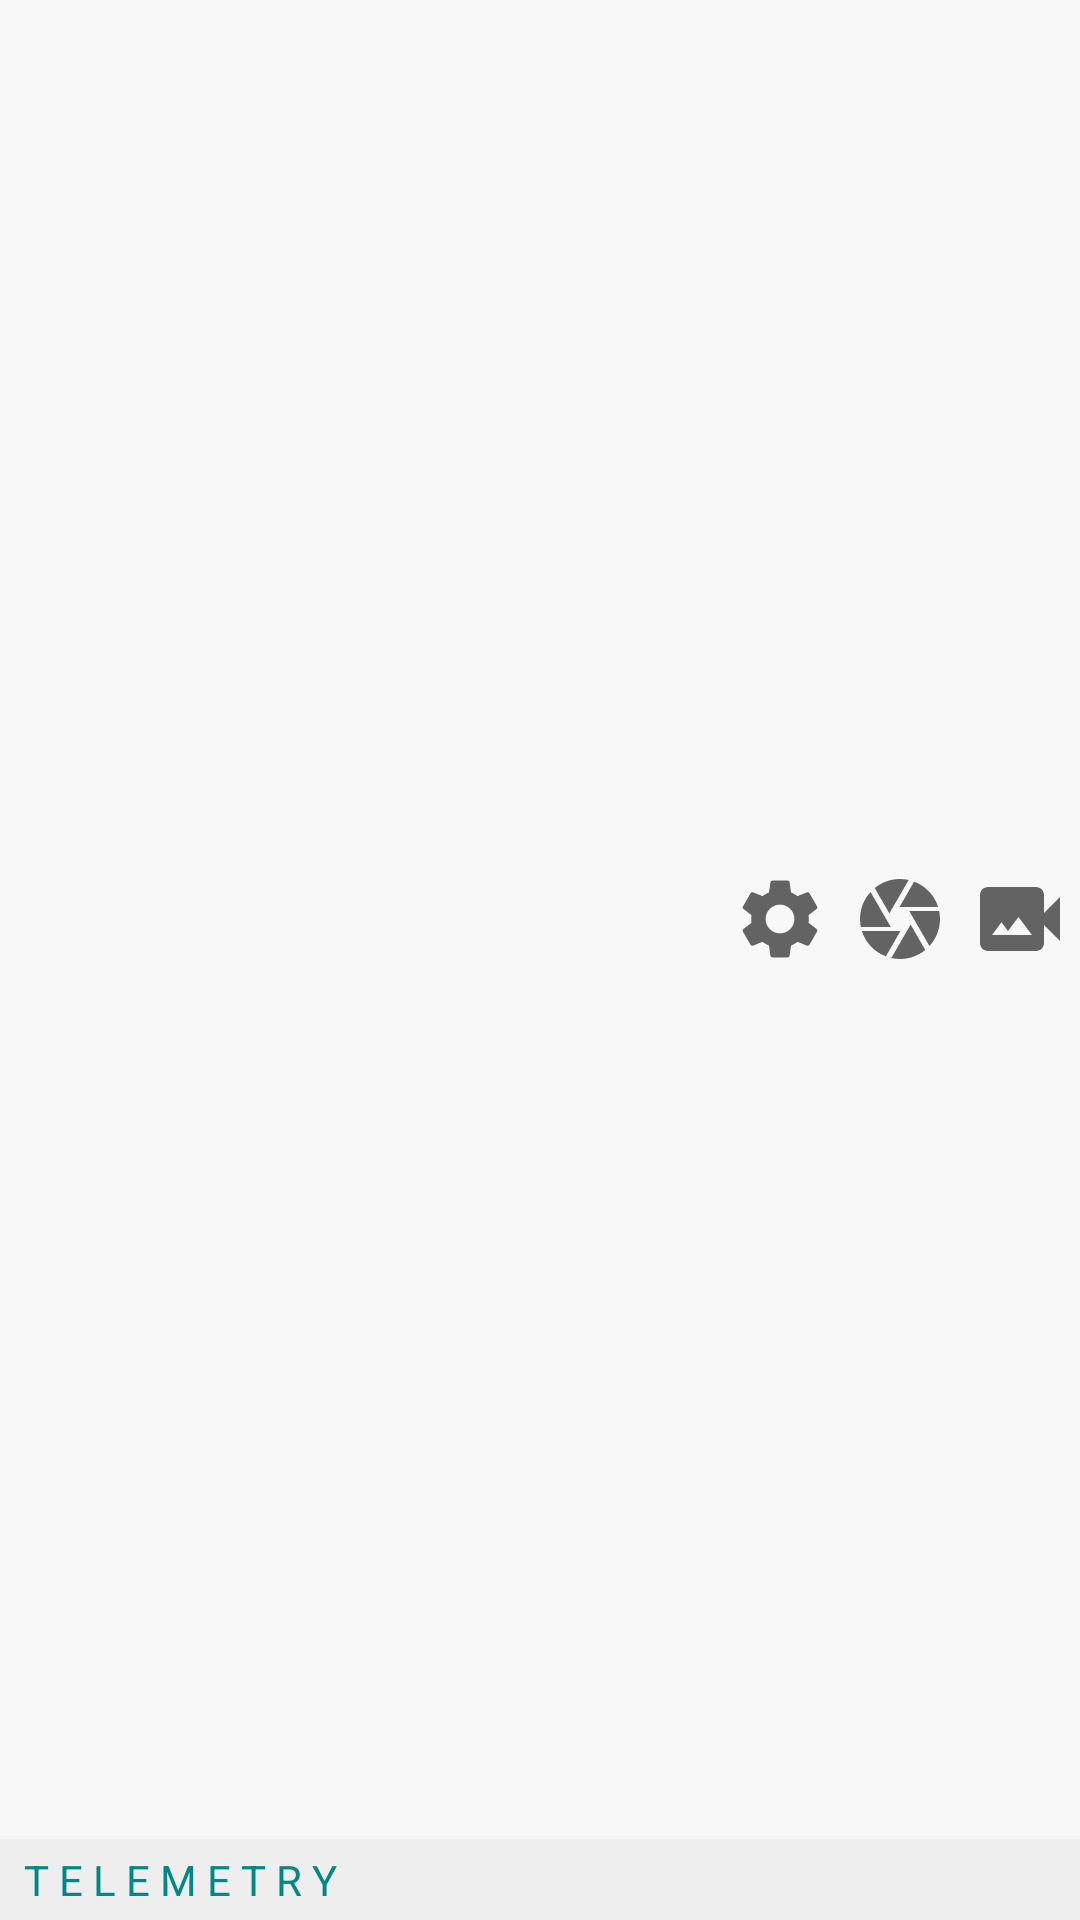

Locate icon controls on the screen. Image size 1080×1920, boxes as (x1, y1, x2, y2).
Camera Settings: (860, 879, 940, 959)
RTSP Video: (980, 887, 1060, 951)
System Settings: (742, 880, 818, 958)
